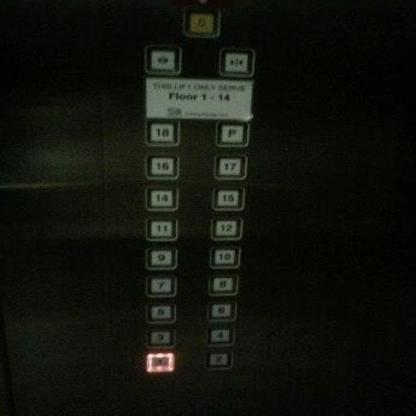1: (144, 352, 172, 371)
10: (208, 246, 240, 268)
11: (144, 217, 178, 241)
12: (209, 217, 242, 241)
14: (143, 186, 179, 211)
15: (210, 186, 245, 210)
16: (144, 154, 178, 179)
17: (212, 153, 247, 180)
18: (143, 118, 179, 147)
2: (204, 350, 232, 370)
3: (145, 328, 176, 349)
4: (204, 325, 235, 346)
5: (146, 303, 176, 324)
6: (205, 300, 236, 322)
7: (145, 274, 175, 297)
8: (207, 273, 237, 296)
9: (144, 246, 177, 270)
P: (214, 119, 248, 147)
alarm: (181, 7, 219, 36)
close: (217, 48, 254, 78)
open: (144, 45, 181, 75)
